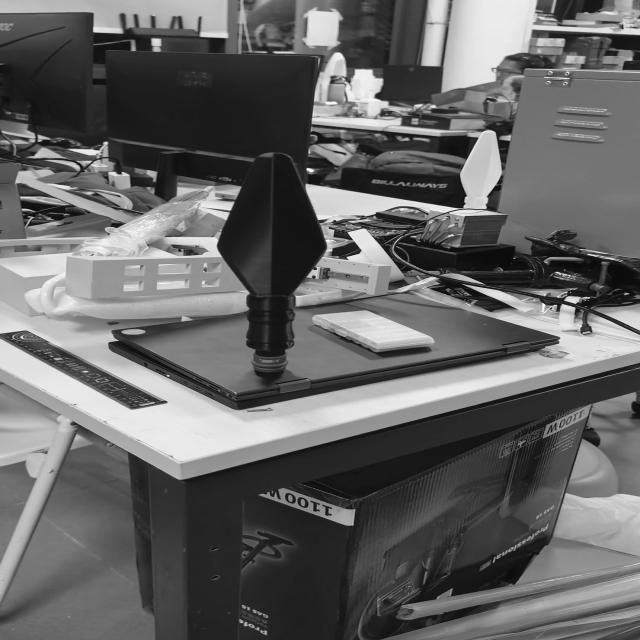base: (249, 352, 291, 378)
